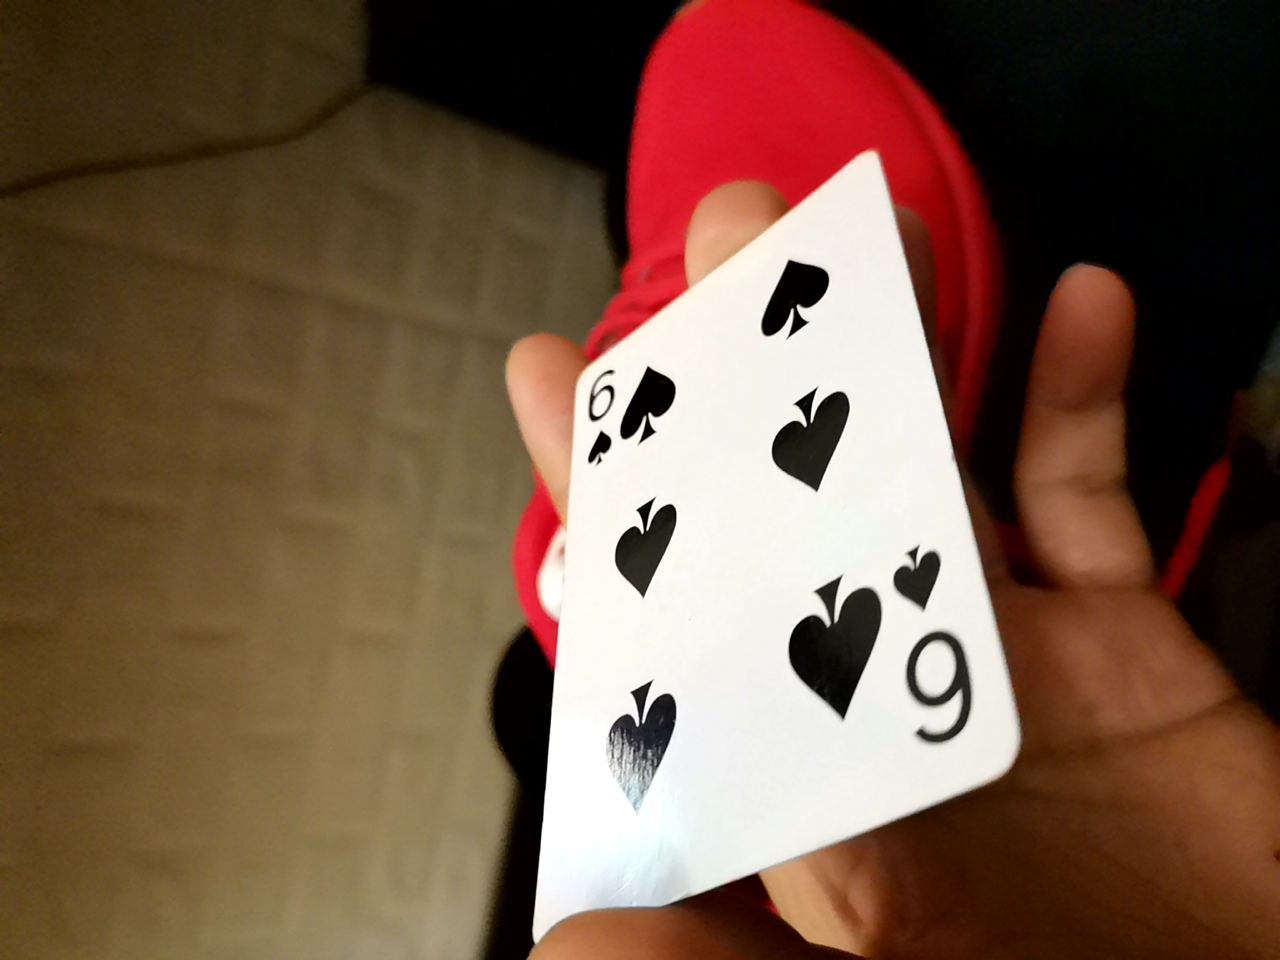ht 6: (509, 169, 1026, 906)
